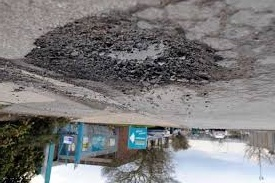pothole: (24, 14, 239, 93)
